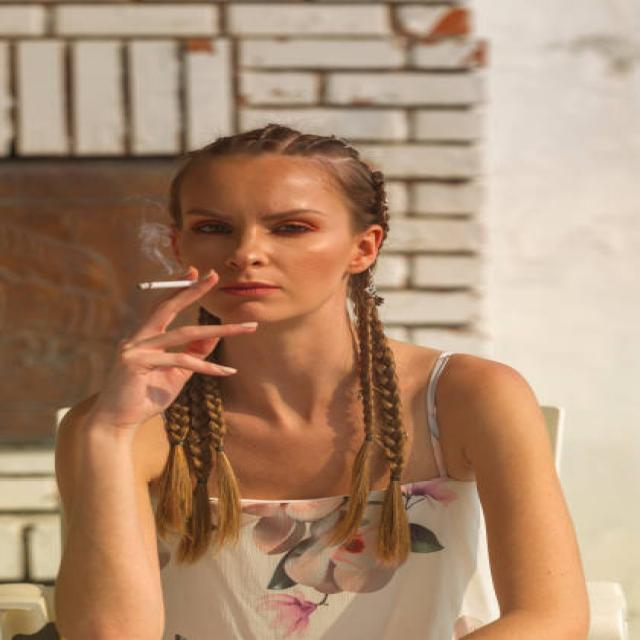Cigarette: (126, 277, 198, 293)
